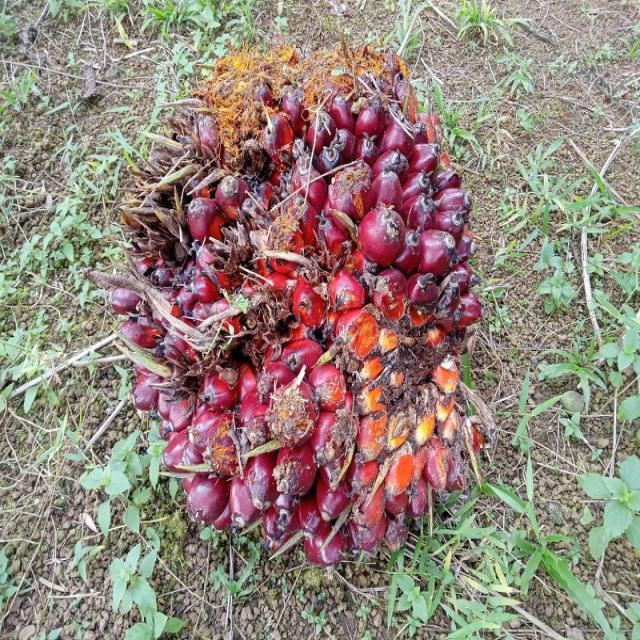fraksi 1: (86, 13, 528, 600)
